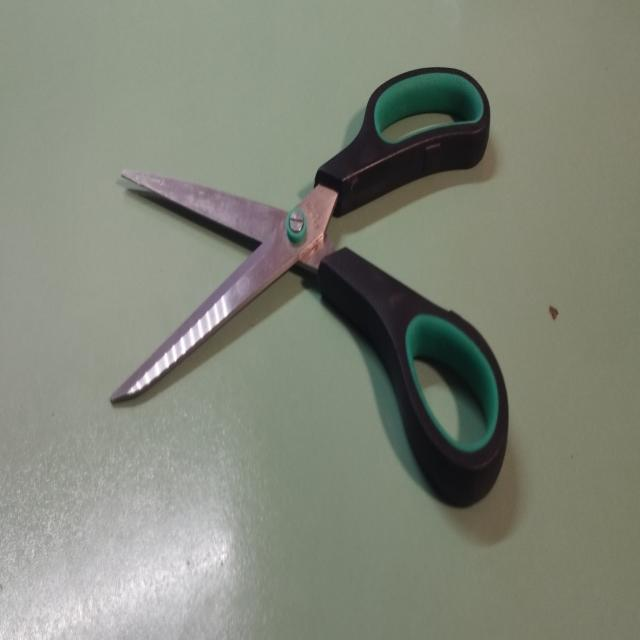tesoura: (107, 54, 514, 516)
